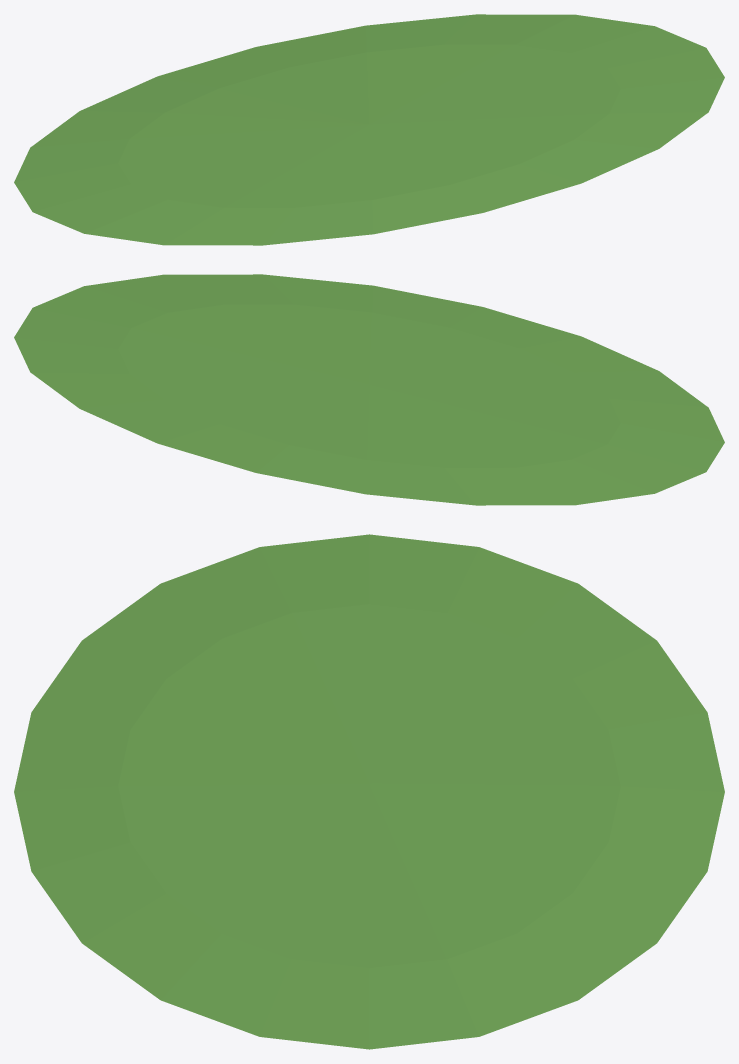
File: POL_GRASS_HEALTHY_01.fbx
3 views of the same model, one above another, from view 1: azimuth 30°, elevation 25°; view 2: azimuth 150°, elevation 25°; view 3: azimuth 270°, elevation 25° (orthographic). The views are drawn at different scales.
Parts seen in each view (by area): view 1: POL_GRASS_HEALTHY_01; view 2: POL_GRASS_HEALTHY_01; view 3: POL_GRASS_HEALTHY_01.
Part boxes in pixels (x1,y1,x2,y2): POL_GRASS_HEALTHY_01: (14, 14, 724, 245); POL_GRASS_HEALTHY_01: (14, 274, 724, 505); POL_GRASS_HEALTHY_01: (14, 534, 724, 1049).
Size of the model in its own units: 240 by 3.6 by 140.
